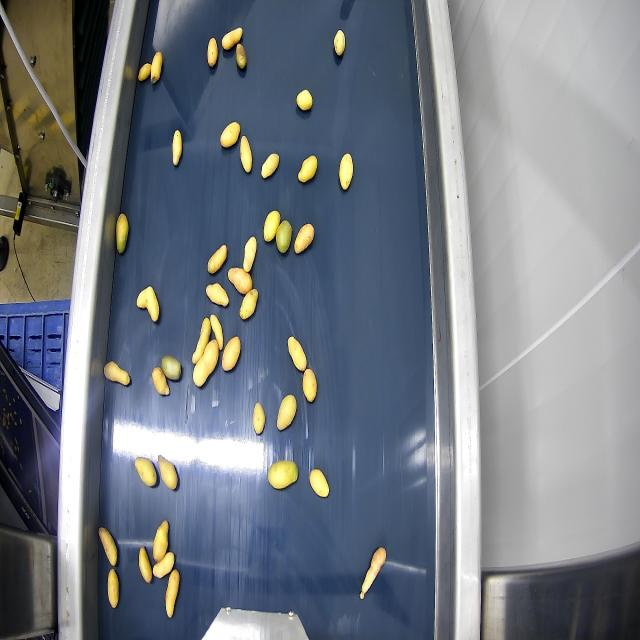Baby Potato: (360, 542, 386, 602), (193, 340, 218, 387), (192, 319, 211, 364), (268, 461, 298, 488), (137, 286, 159, 322), (221, 336, 241, 372), (277, 395, 296, 431), (99, 528, 117, 566), (228, 268, 252, 295), (158, 456, 177, 490), (288, 336, 306, 371), (153, 520, 168, 562), (135, 457, 156, 487), (166, 569, 179, 617), (153, 551, 175, 579), (294, 224, 314, 254), (104, 361, 129, 385), (207, 245, 226, 274), (298, 155, 317, 183), (240, 288, 257, 319), (220, 121, 240, 147), (309, 470, 328, 497), (206, 283, 228, 306), (161, 355, 181, 380), (264, 210, 280, 241), (276, 221, 291, 254), (116, 213, 128, 254), (339, 153, 352, 190), (210, 314, 223, 351), (139, 547, 152, 583), (152, 368, 169, 395), (243, 237, 256, 272), (261, 153, 279, 178), (303, 368, 316, 402), (222, 28, 242, 50), (240, 136, 251, 173), (108, 568, 118, 608), (150, 52, 162, 84), (172, 130, 182, 166), (296, 89, 312, 111), (253, 403, 264, 434), (207, 38, 217, 67), (334, 30, 345, 55), (236, 43, 246, 69), (138, 64, 151, 81)
